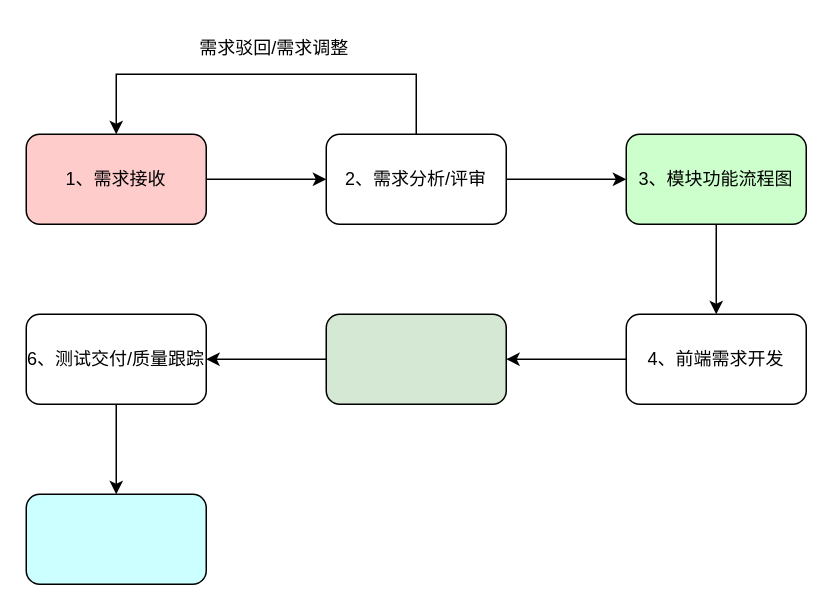
This 833x611 diagram has some shape labels left out. The centre of each missing label's shape, as x and y in pixels:
"5、多维度自测" belongs at pixel 415 358.
"7、正式发布及复盘" belongs at pixel 115 538.
